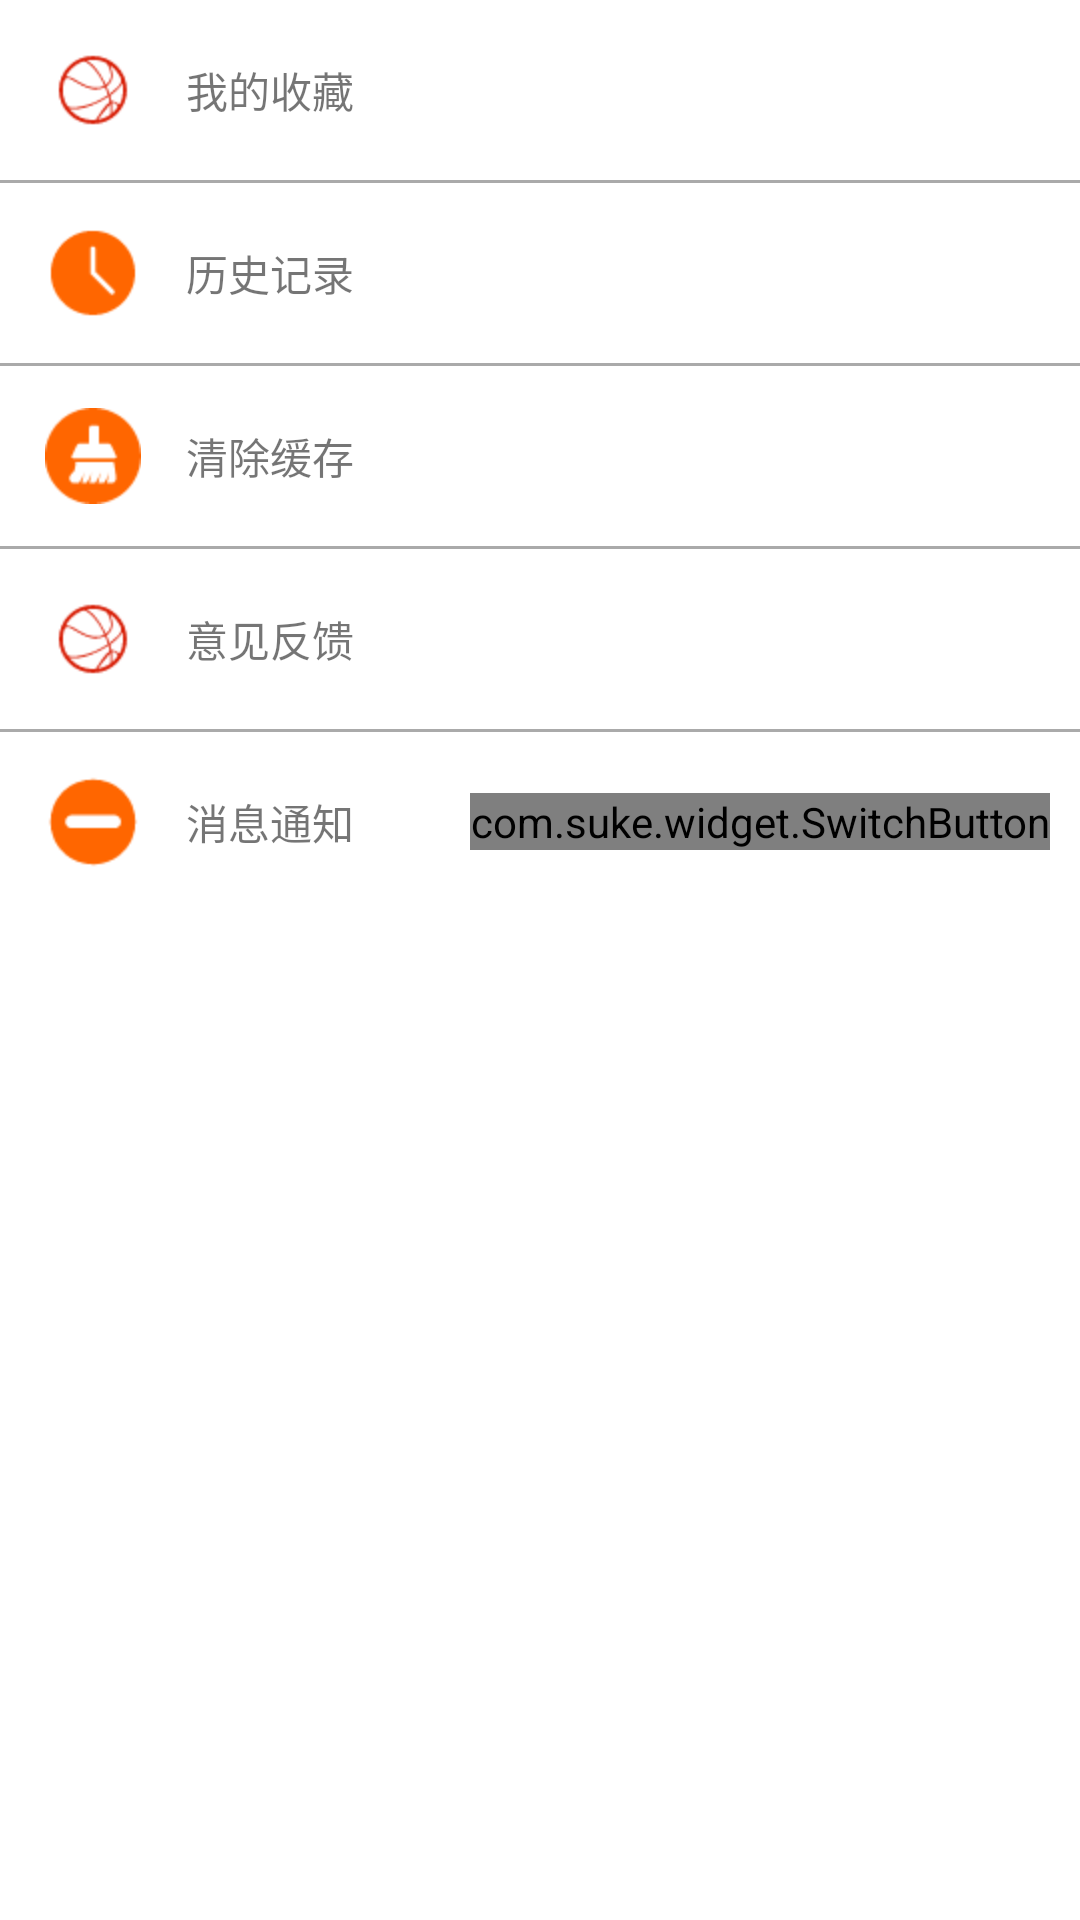

Icons on this 1080px×1920px Android screen, each with its box as (x1, y1, x2, y2):
balls: (58, 55, 128, 125), (58, 604, 128, 674)
clearcatche: (45, 408, 141, 504)
histoer: (50, 230, 136, 316)
